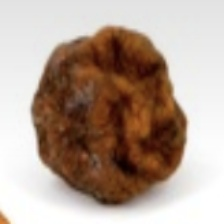orange: (12, 13, 180, 191)
